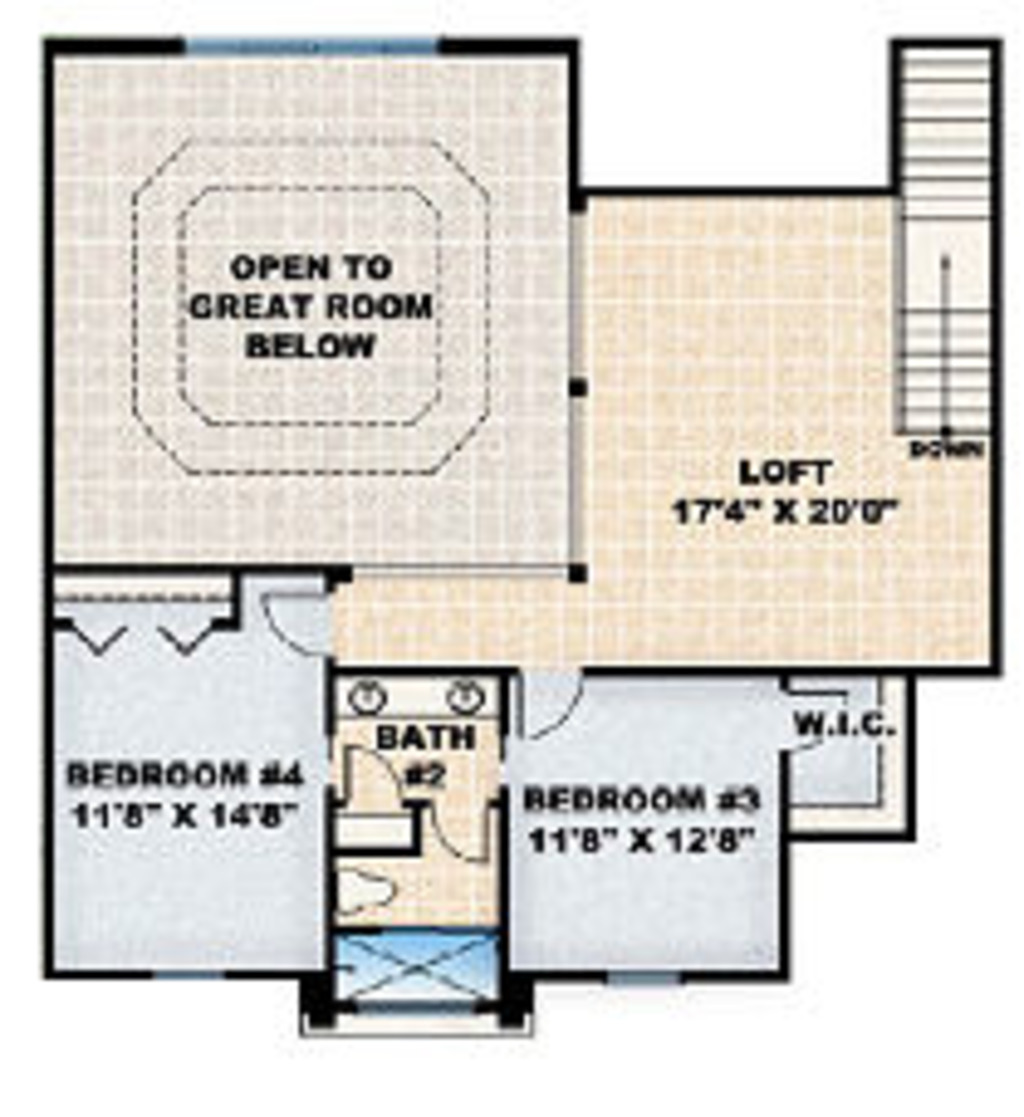door: (514, 671, 584, 742), (260, 588, 331, 657), (336, 745, 398, 808), (433, 802, 491, 865)
large_sink: (323, 864, 403, 919)
small_sink: (328, 670, 499, 724)
stairs: (900, 37, 998, 439)
windows: (173, 30, 455, 62), (603, 963, 684, 989)
